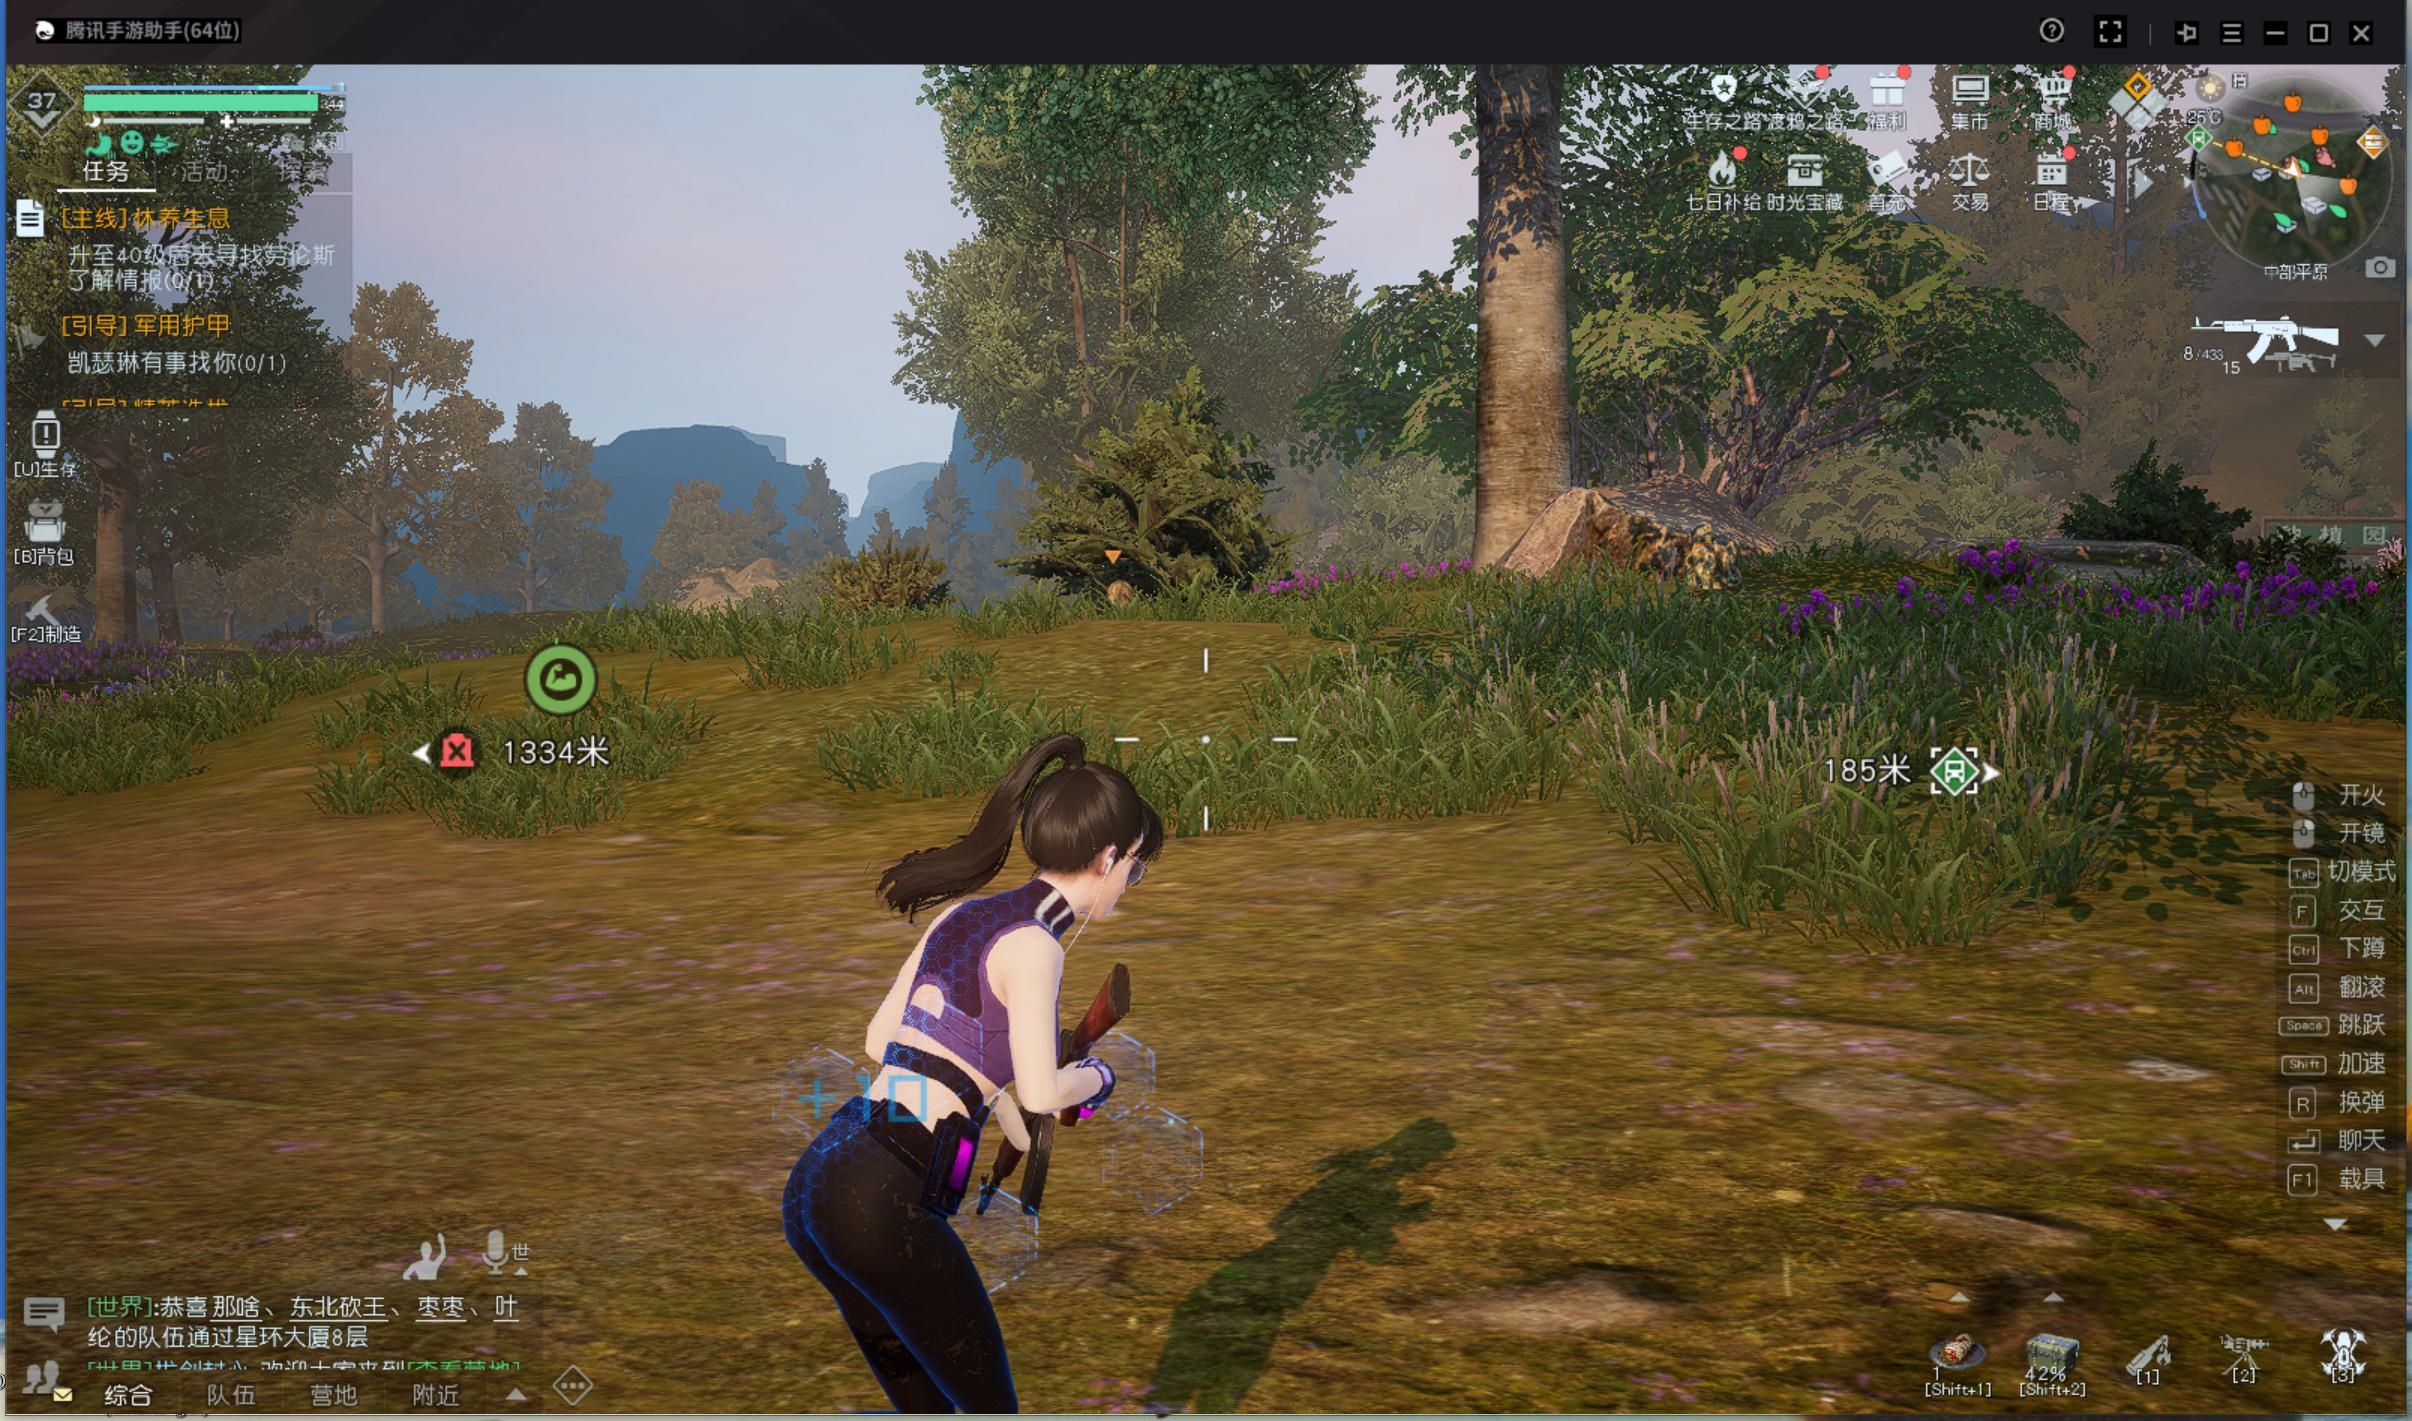stone: (1666, 524, 1746, 595)
tree: (1460, 162, 1588, 589)
